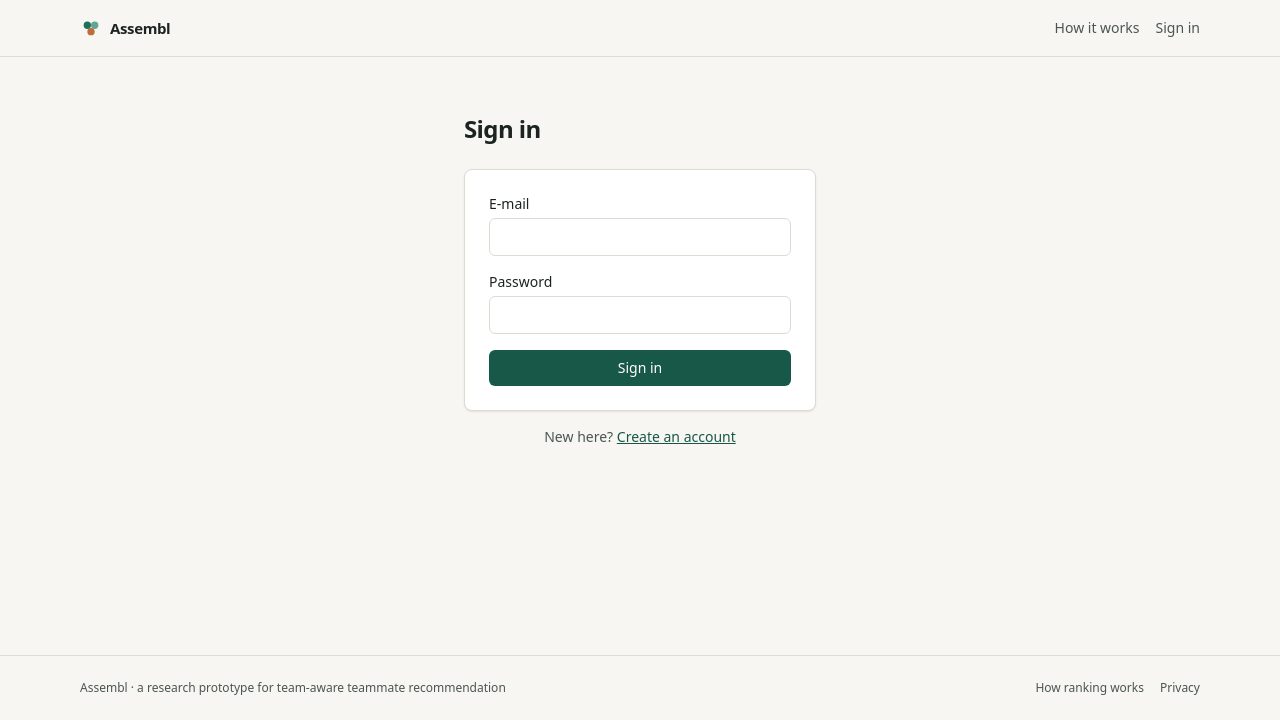
it: login journey › redirects anonymous users to sign in, then shows the error from the server
Expected: the heading "Sign in" is shown, [464, 112, 541, 145]
Type "a@x.edu" into the field labelled "E-mail" at (640,237), box [489, 218, 791, 256]
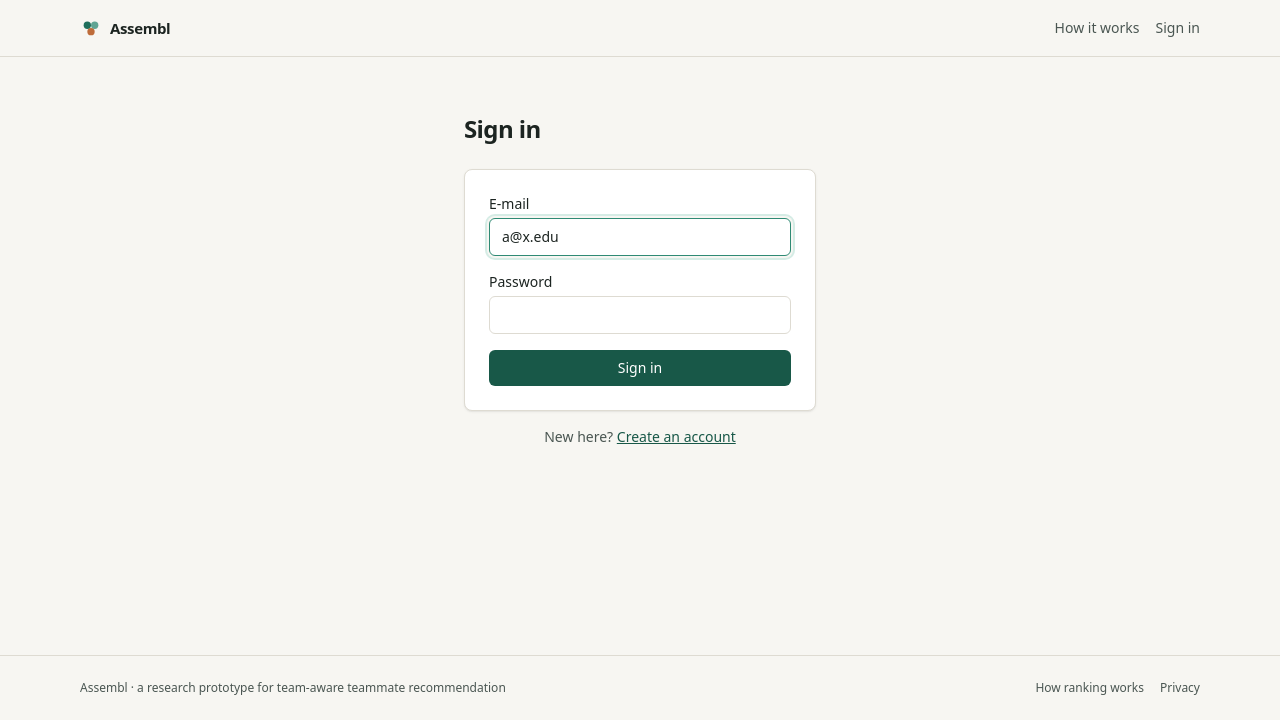
Type "wrongpassword" into the password field labelled "Password" at (640,315), box [489, 296, 791, 334]
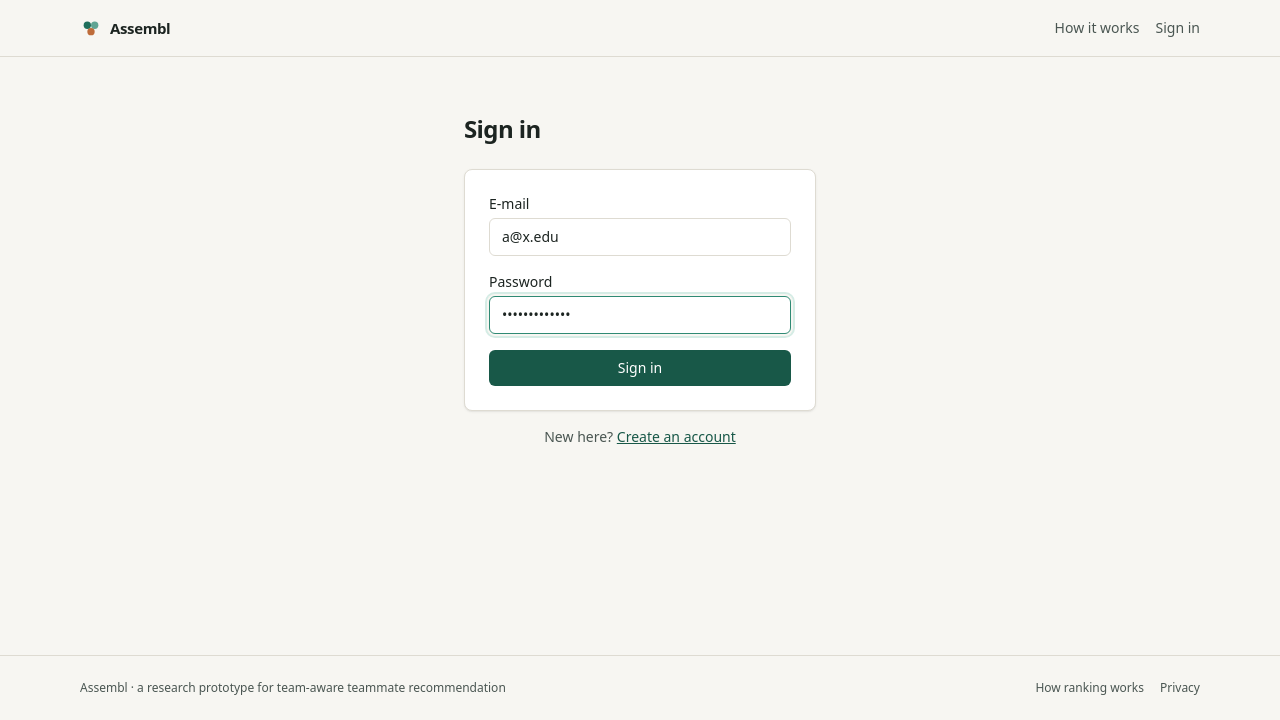
Click the button "Sign in" at (640,368), box [489, 350, 791, 386]
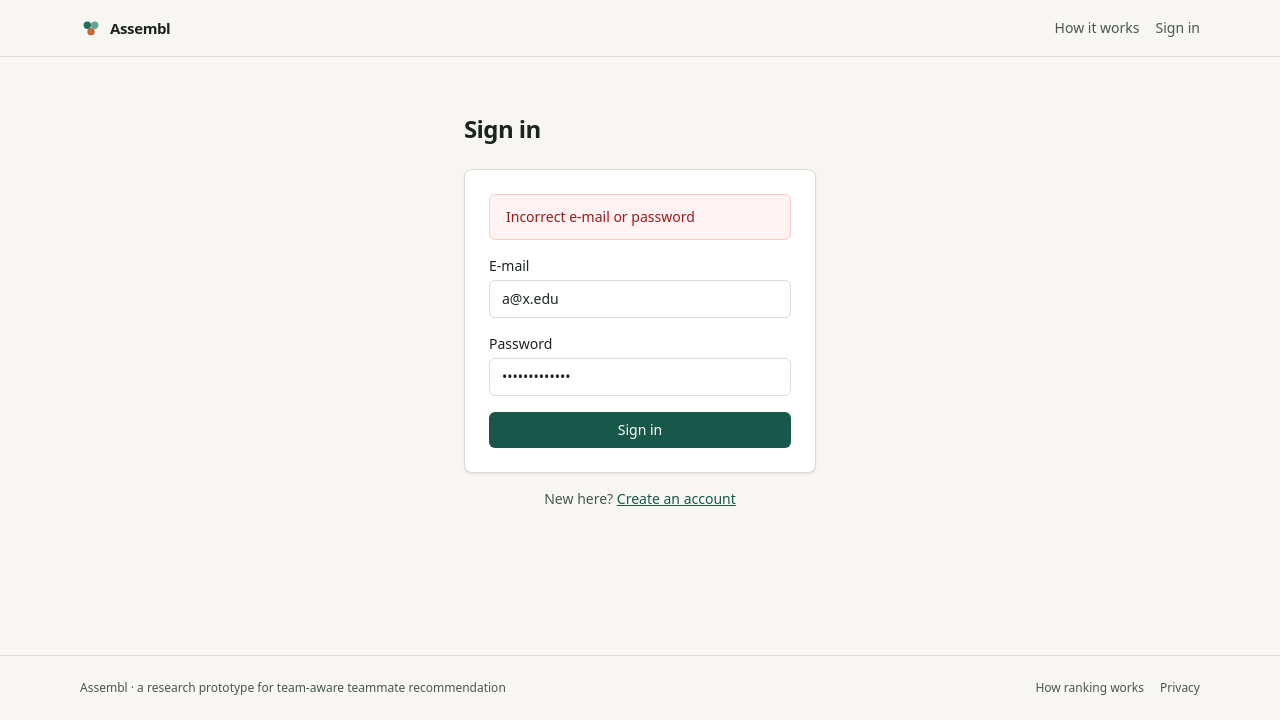
Now the message reads "Incorrect e-mail or password", box [506, 207, 695, 226]
